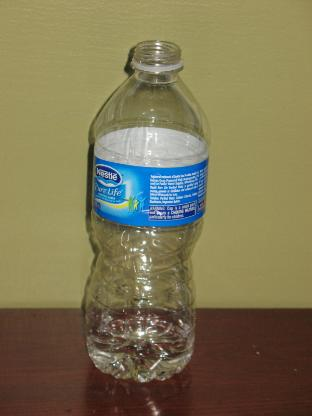Plastic Bottle: (82, 39, 210, 383)
